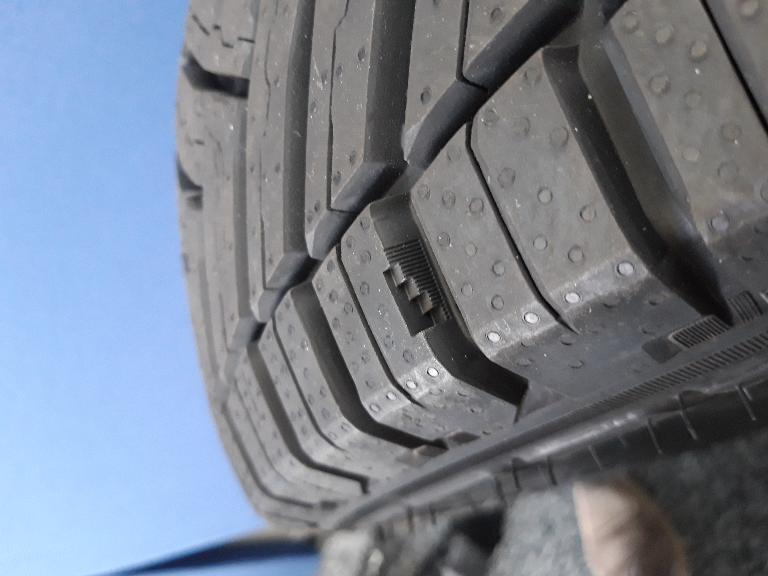temoin:100: (379, 237, 455, 340)
